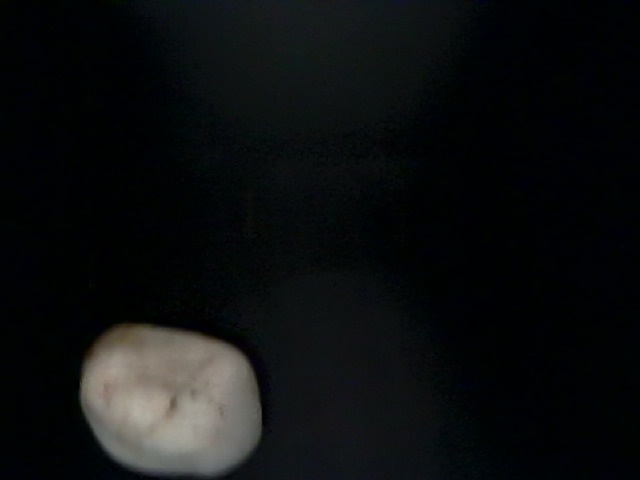QTLJ: (349, 103, 640, 299)
